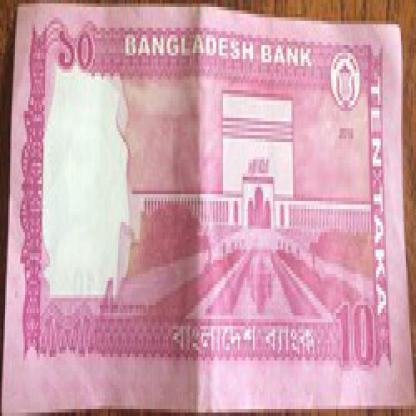Ten Taka: (331, 298, 378, 375), (56, 21, 95, 76)
